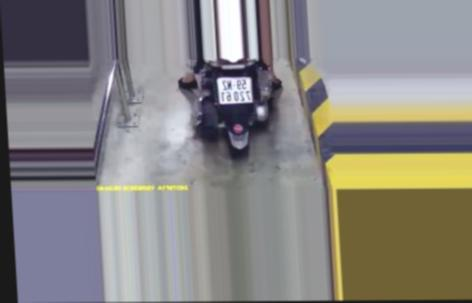License_Plate: (214, 75, 256, 106)
